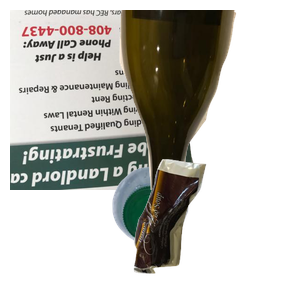glass: (117, 10, 300, 190)
paper: (10, 10, 201, 190)
plastic: (110, 164, 300, 300)
trash: (131, 157, 300, 300)
